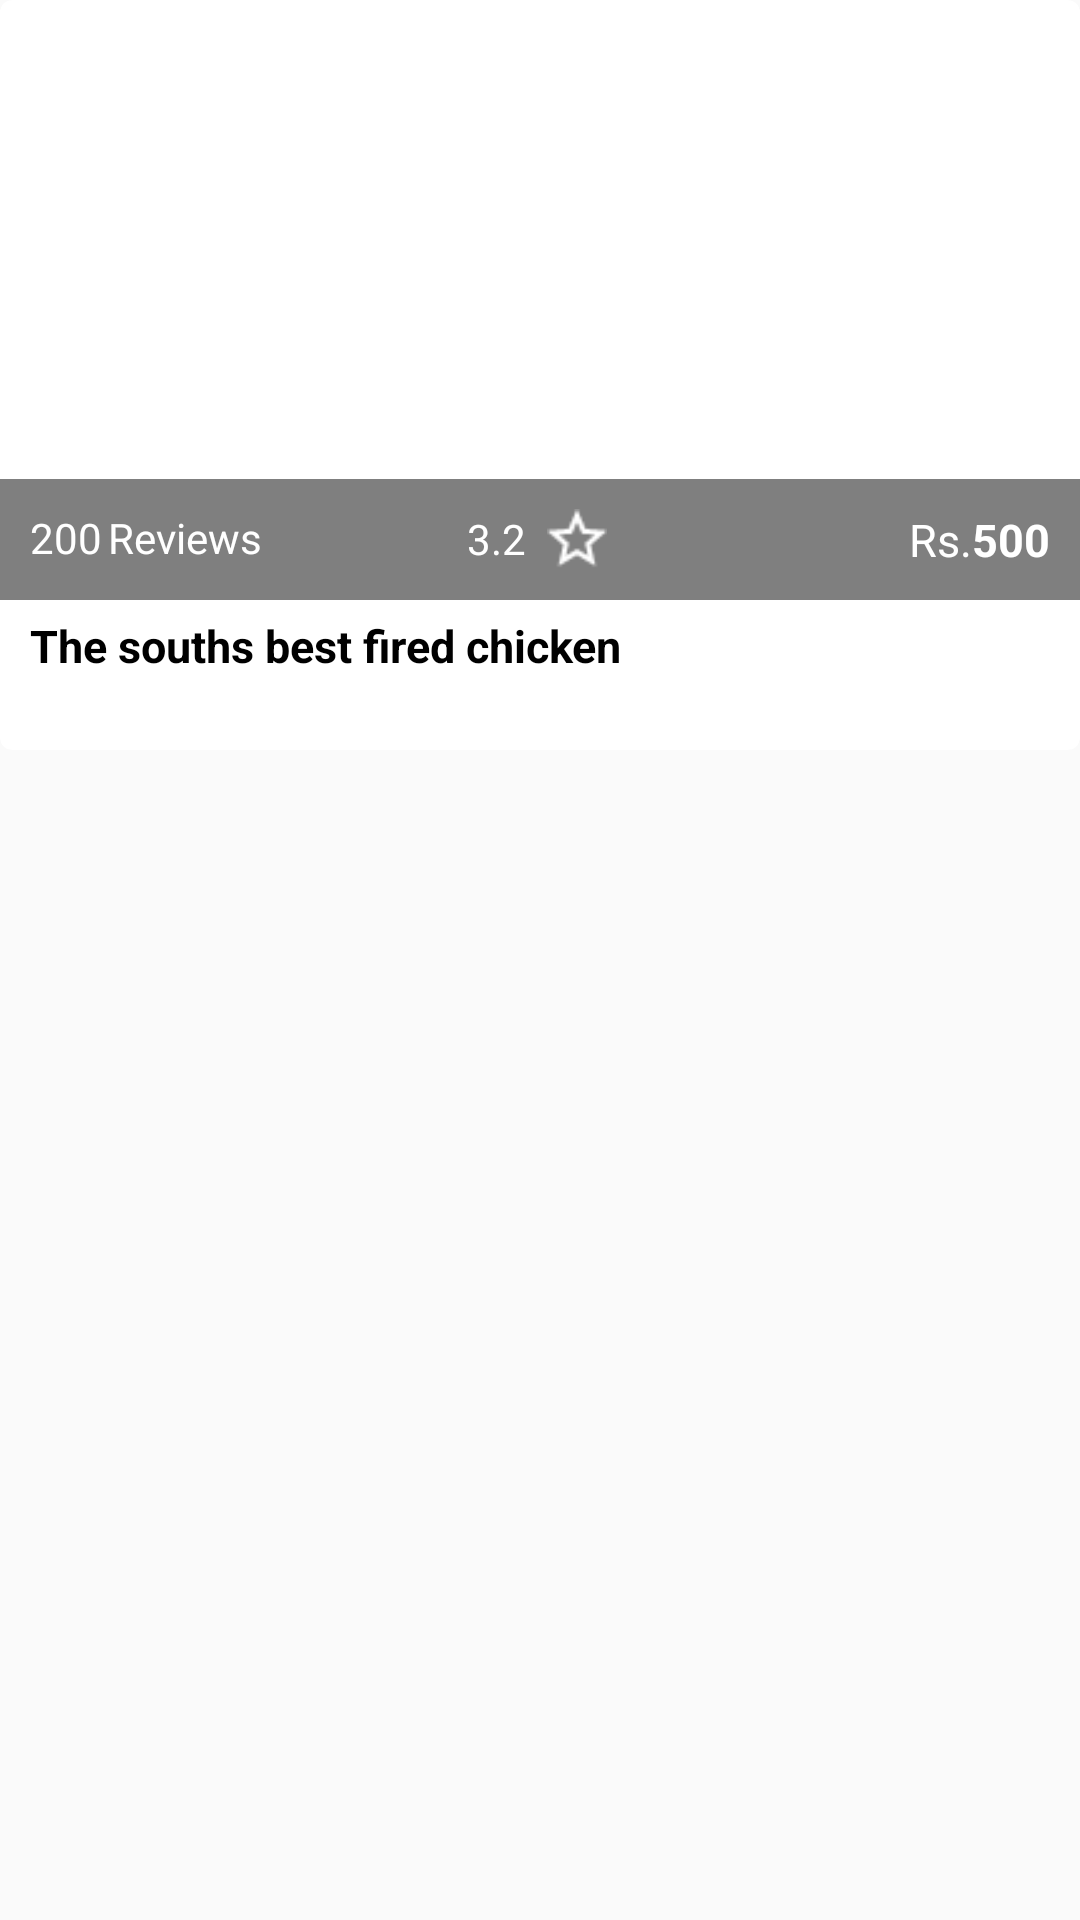

Screen size 1080*1920. Icon name, then its center in pixels as point (x, y):
star: point (577, 538)
